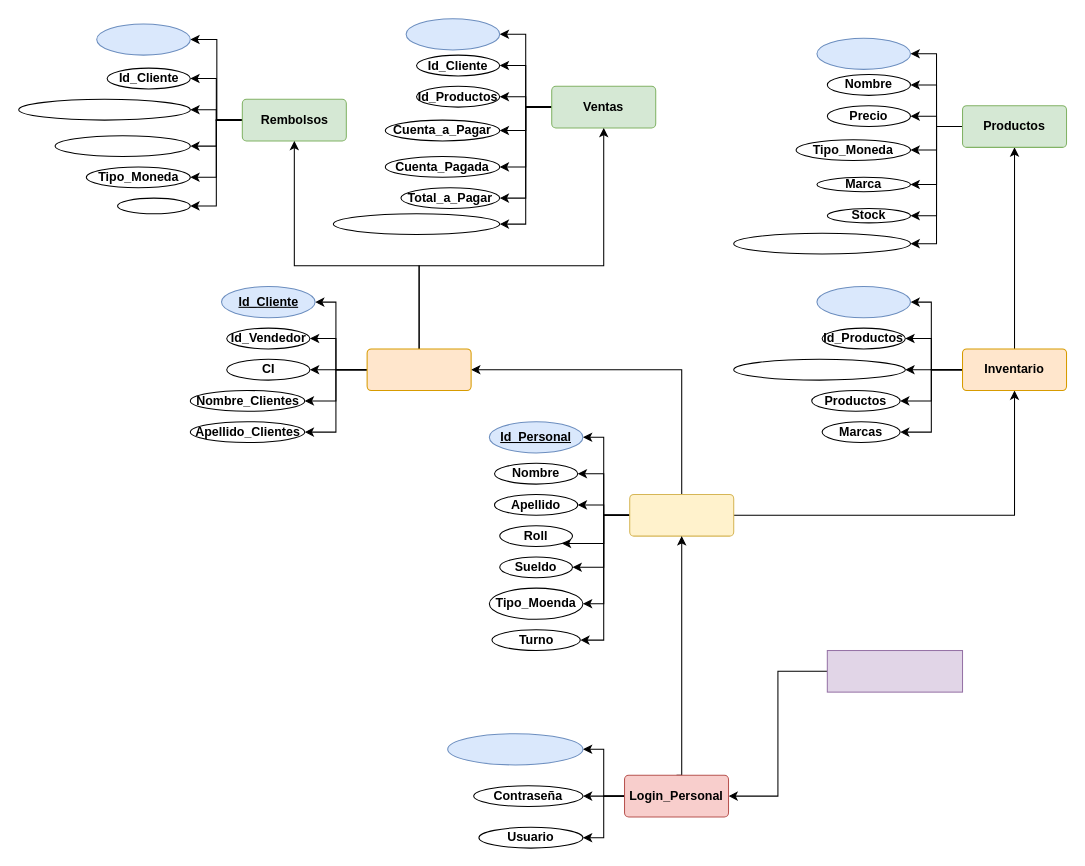
This 1085x866 diagram has some shape labels left out. The shapes that lost their labels are listed below. From the top down, each one's centre as x and y in pixels, then its label:
point 143,39: Id_Rembolsos
point 452,34: Id_Ventas
point 863,53: Id_Producto
point 104,109: Id_Productos_Rembolsados
point 122,146: Monto_Rembolsado
point 153,205: Motivo
point 416,224: Tipo_Moneda_De_Pago
point 822,243: Ubicacion_del_Producto
point 863,301: Id_Inventario
point 418,369: Cliente
point 819,369: Id_Gerente_Del_Inventario
point 681,514: Personal
point 894,670: DB_SistemaDeVentas
point 515,749: Id_Login_Personal
